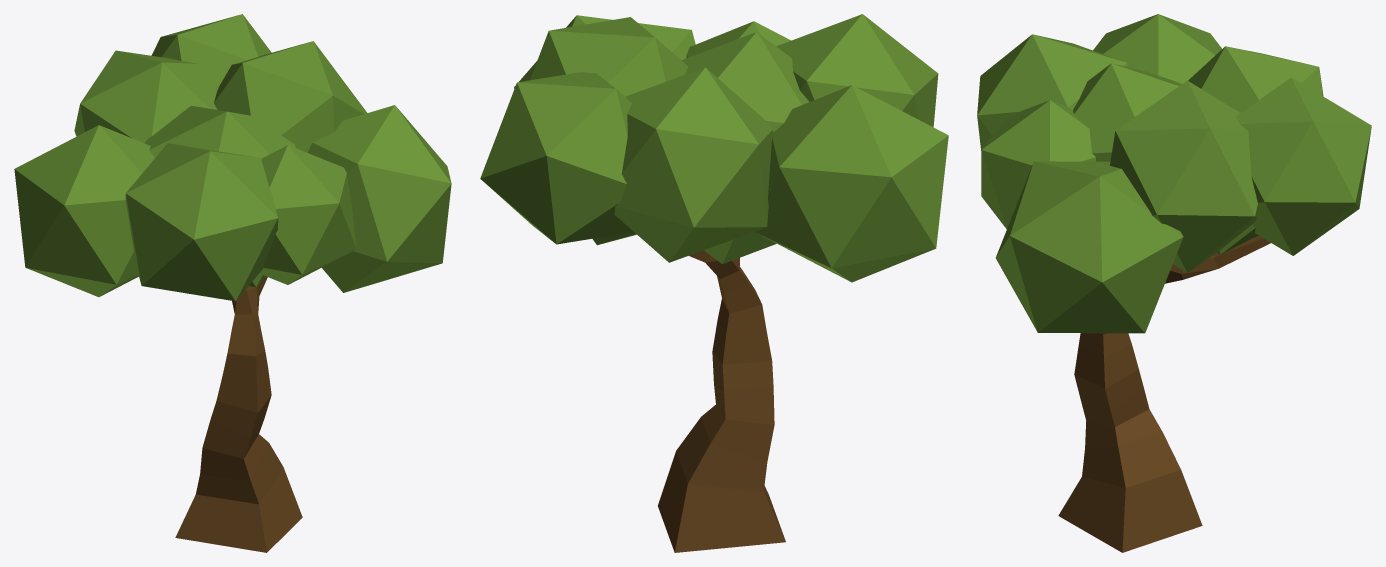
Rendered from tree2.fbx.
The picture shows the model from 3 angles, left to right: view 1: azimuth 30°, elevation 25°; view 2: azimuth 150°, elevation 25°; view 3: azimuth 270°, elevation 25°; orthographic projection. The views are drawn at different scales.
Visible parts, largest first — view 1: Icosphere.011, Icosphere.012, Icosphere.009, Cube.001, Icosphere.015, Icosphere.016, Icosphere.013, Icosphere.014, Icosphere.010; view 2: Icosphere.009, Icosphere.013, Cube.001, Icosphere.010, Icosphere.011, Icosphere.016, Icosphere.014, Icosphere.012, Icosphere.015; view 3: Icosphere.012, Cube.001, Icosphere.016, Icosphere.010, Icosphere.011, Icosphere.015, Icosphere.009, Icosphere.014, Icosphere.013.
Boxes of the visible parts, <box> form: Icosphere.011: <box>125,143,278,301</box>; Icosphere.012: <box>307,105,451,292</box>; Icosphere.009: <box>14,125,154,297</box>; Cube.001: <box>175,276,302,552</box>; Icosphere.015: <box>259,145,356,284</box>; Icosphere.016: <box>214,41,367,152</box>; Icosphere.013: <box>74,50,217,142</box>; Icosphere.014: <box>144,105,295,287</box>; Icosphere.010: <box>151,14,271,86</box>; Icosphere.009: <box>755,85,948,282</box>; Icosphere.013: <box>614,67,772,262</box>; Cube.001: <box>658,250,785,552</box>; Icosphere.010: <box>480,72,632,244</box>; Icosphere.011: <box>776,14,938,127</box>; Icosphere.016: <box>530,17,688,96</box>; Icosphere.014: <box>681,32,809,264</box>; Icosphere.012: <box>514,15,695,88</box>; Icosphere.015: <box>686,21,790,57</box>; Icosphere.012: <box>995,161,1183,333</box>; Cube.001: <box>1058,236,1270,552</box>; Icosphere.016: <box>1110,80,1257,272</box>; Icosphere.010: <box>1236,77,1371,255</box>; Icosphere.011: <box>977,34,1127,150</box>; Icosphere.015: <box>981,100,1096,229</box>; Icosphere.009: <box>1093,14,1221,83</box>; Icosphere.014: <box>1073,63,1181,161</box>; Icosphere.013: <box>1188,46,1323,112</box>.
Size of the model in its own units: 680 by 725 by 563.
